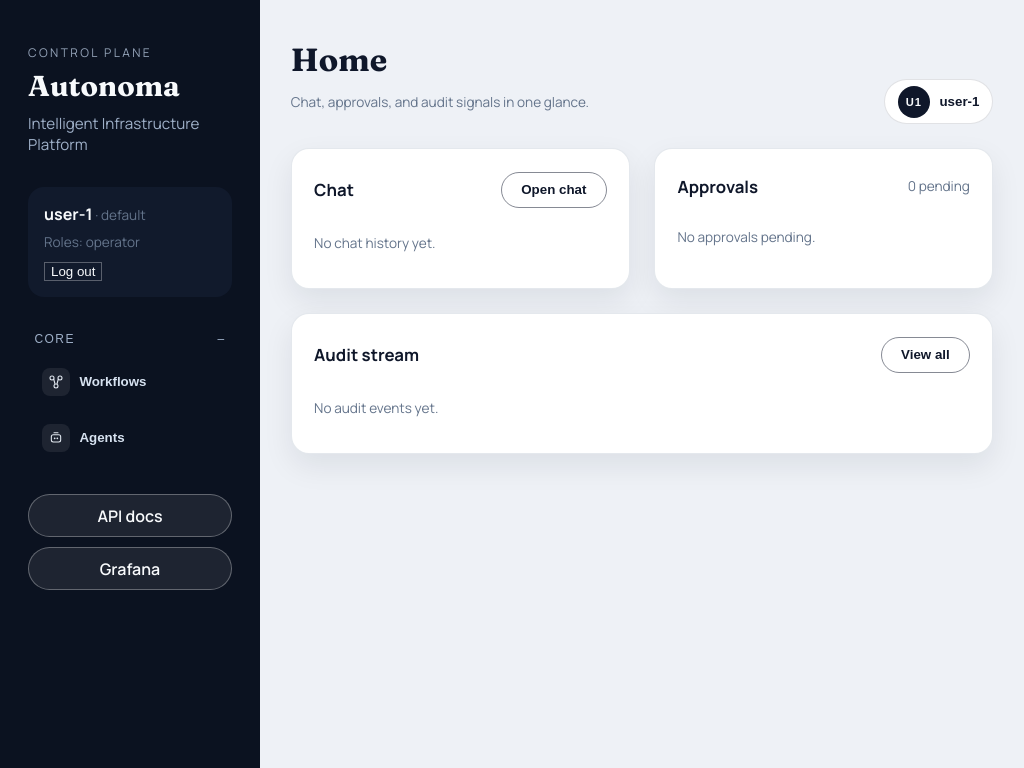
it: App auth flow › shows a workflow submission modal with run details
Click the button "Workflows" at {"x": 130, "y": 382}, box 28,357 -> 232,407
(page scrolled)
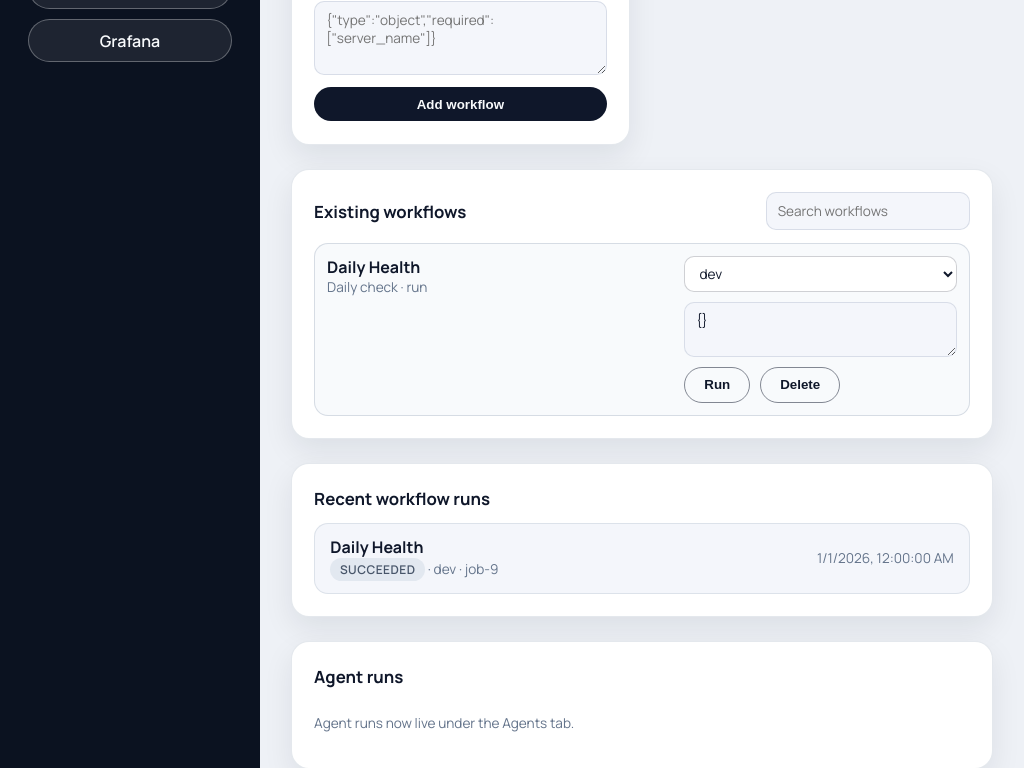
Now the text "Daily Health" below "Existing workflows" is shown, box 327,256 -> 420,278
Click the button "Run" at {"x": 717, "y": 385}, box 684,367 -> 750,403
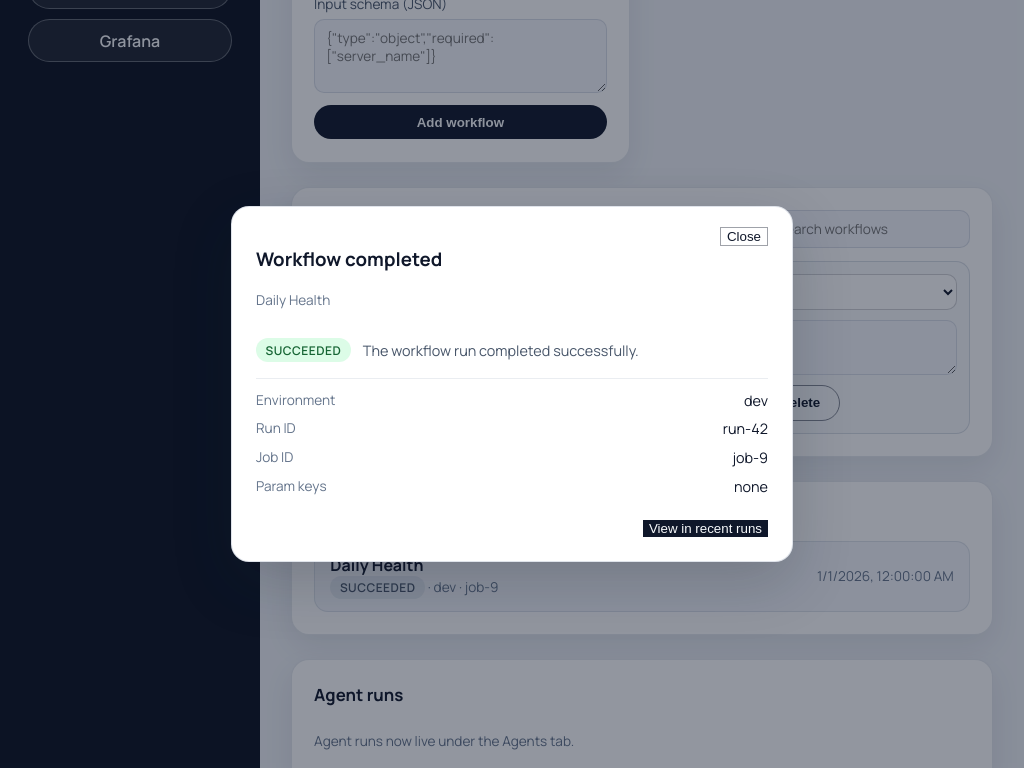
Now the heading "Workflow completed" is shown, box 256,246 -> 442,272
Now the text "run-42" is shown, box 723,419 -> 768,438
Now the text "job-9" is shown, box 732,448 -> 768,467
